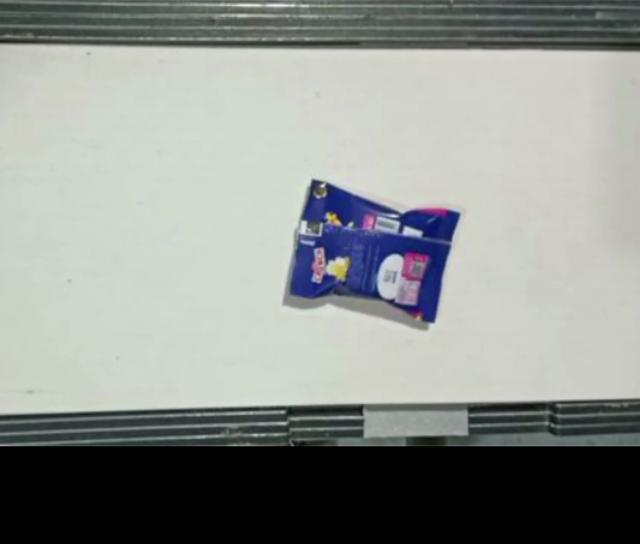Plastik: (289, 179, 460, 323)
